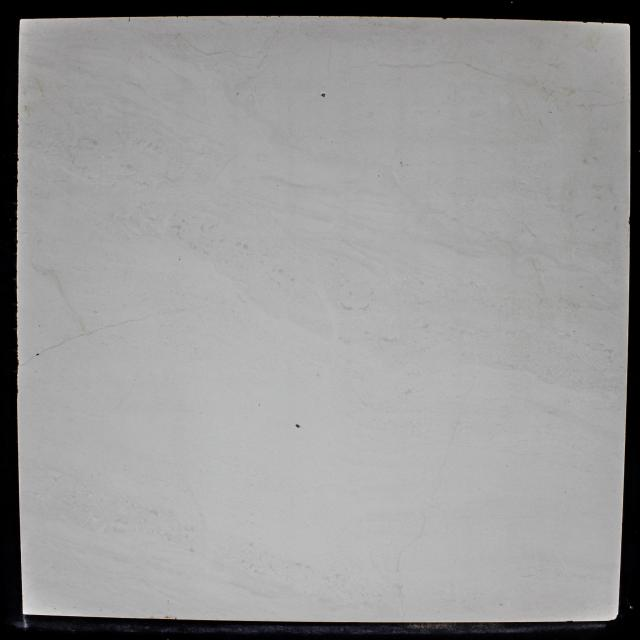hole: (321, 92, 326, 98), (295, 424, 301, 428), (36, 353, 40, 355)
line: (380, 59, 461, 71), (463, 60, 502, 78), (42, 342, 64, 353), (86, 327, 105, 335), (66, 334, 85, 341), (23, 356, 36, 366), (126, 317, 147, 322), (106, 322, 125, 327)
